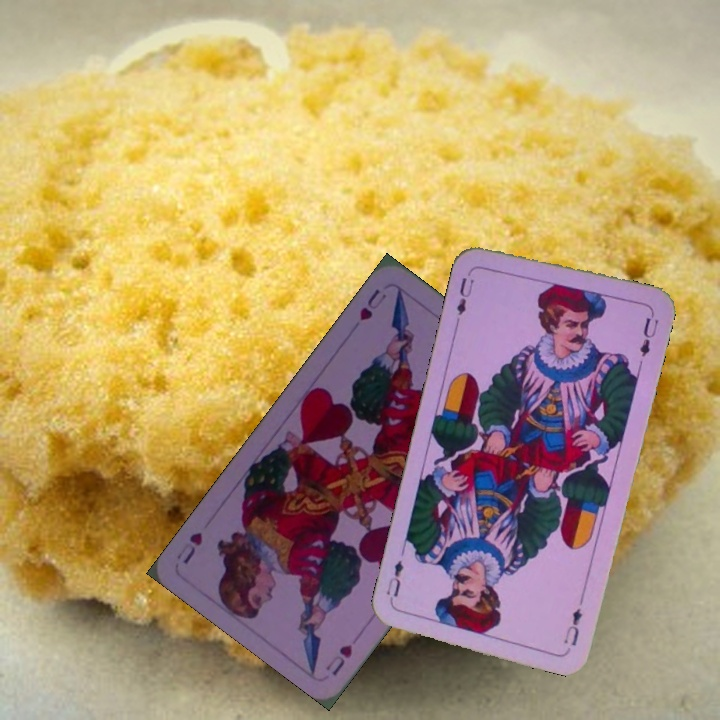EU: (560, 603, 585, 649), (452, 273, 477, 318)
HU: (355, 285, 389, 324), (321, 640, 355, 679)
